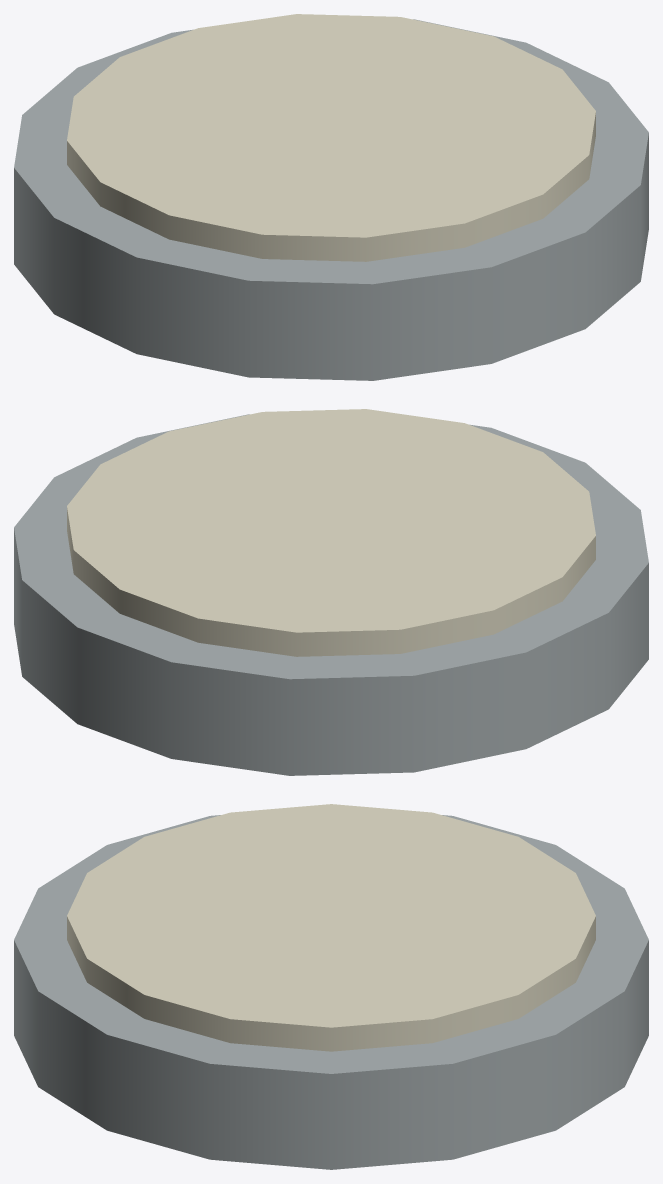
Rendered from scavengers-loot-library-coin-cell-4ec8c7b4__2533.glb.
3 renders of one model, top to bottom at view 1: azimuth 30°, elevation 25°; view 2: azimuth 150°, elevation 25°; view 3: azimuth 270°, elevation 25°, orthographic.
Parts seen in each view (by area): view 1: coin-cell; view 2: coin-cell; view 3: coin-cell.
Part boxes in pixels (bbox=[...]): coin-cell: bbox=[14, 14, 648, 380]; coin-cell: bbox=[14, 409, 648, 775]; coin-cell: bbox=[14, 804, 648, 1169].
Size of the model in its own units: 0.024 by 0.005 by 0.024.
